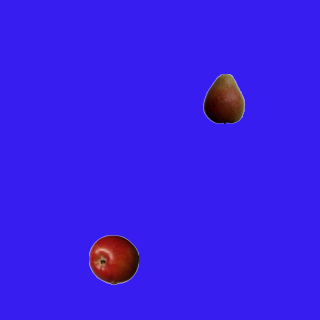Apple Braeburn: (88, 234, 138, 284)
Pear Forelle: (198, 73, 248, 123)
